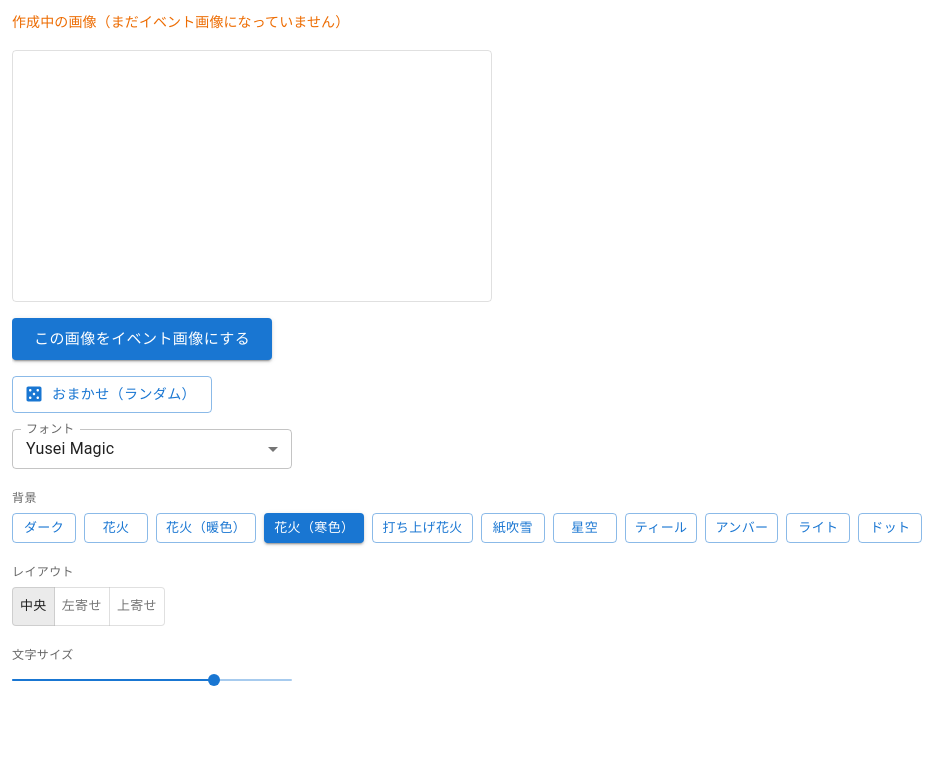
Scenario: EventImageStudio の押し忘れ対策 › 反映したあとにまた触ると、まだイベント画像になっていない表示に戻る
Click the button "この画像をイベント画像にする". click: (142, 339)
box: x1=12 y1=318 x2=272 y2=360
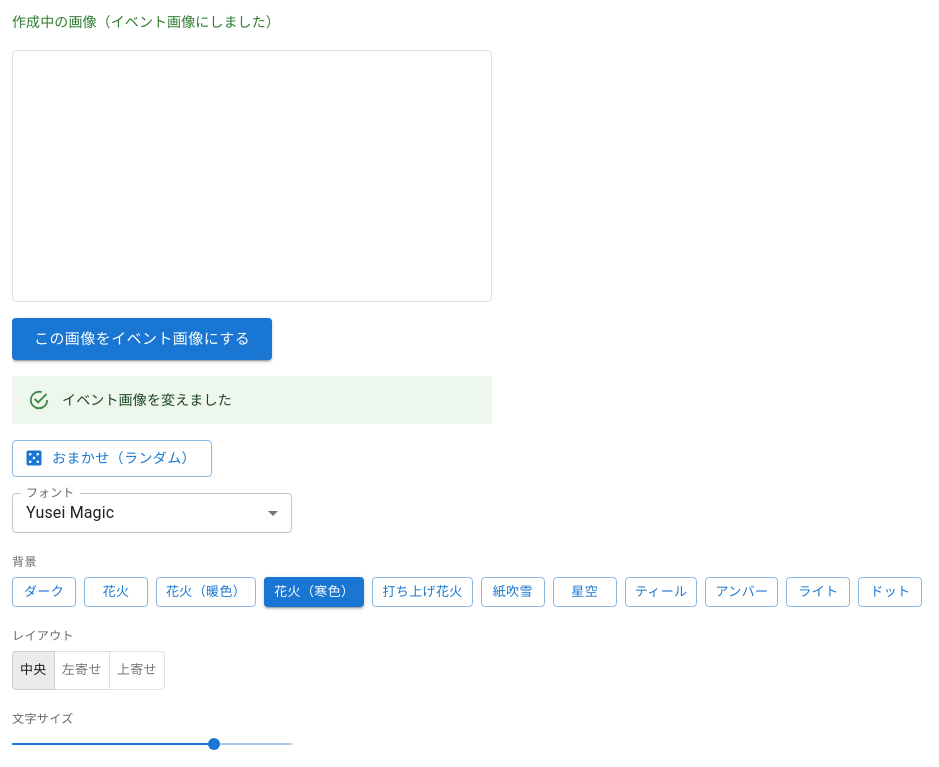
expect the text "イベント画像を変えました" is shown: met, box x1=62 y1=392 x2=232 y2=408
Click the button "花火". click: (116, 592)
box: x1=84 y1=577 x2=148 y2=608
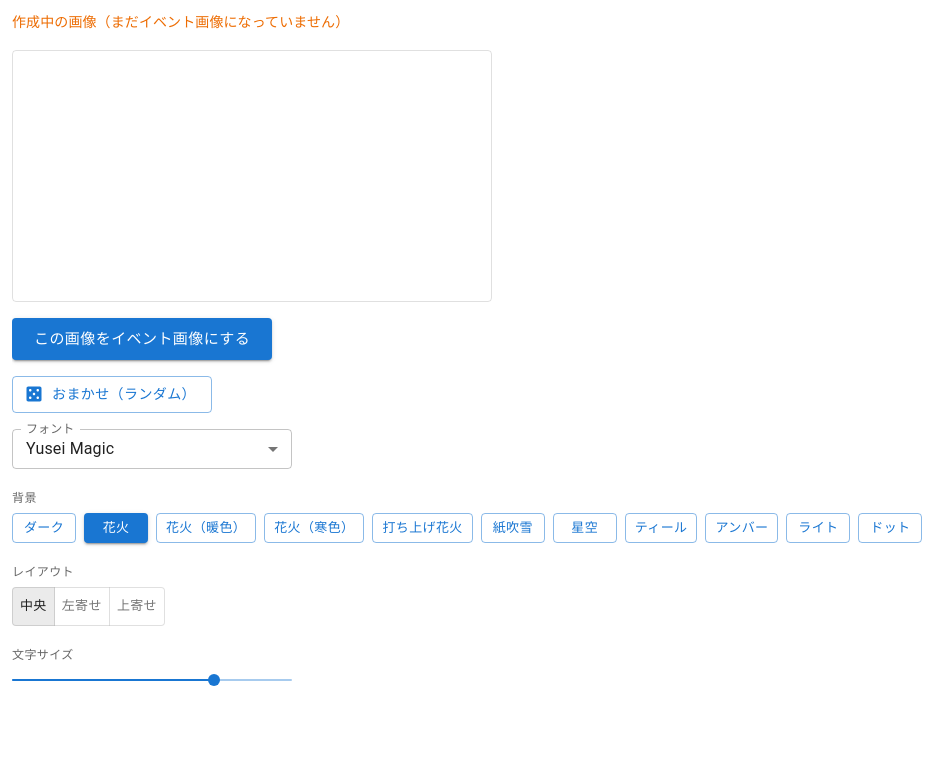
expect the heading "作成中の画像（まだイベント画像になっていません）" is shown: met, box x1=12 y1=14 x2=349 y2=30
expect the text "イベント画像を変えました" is gone: met
